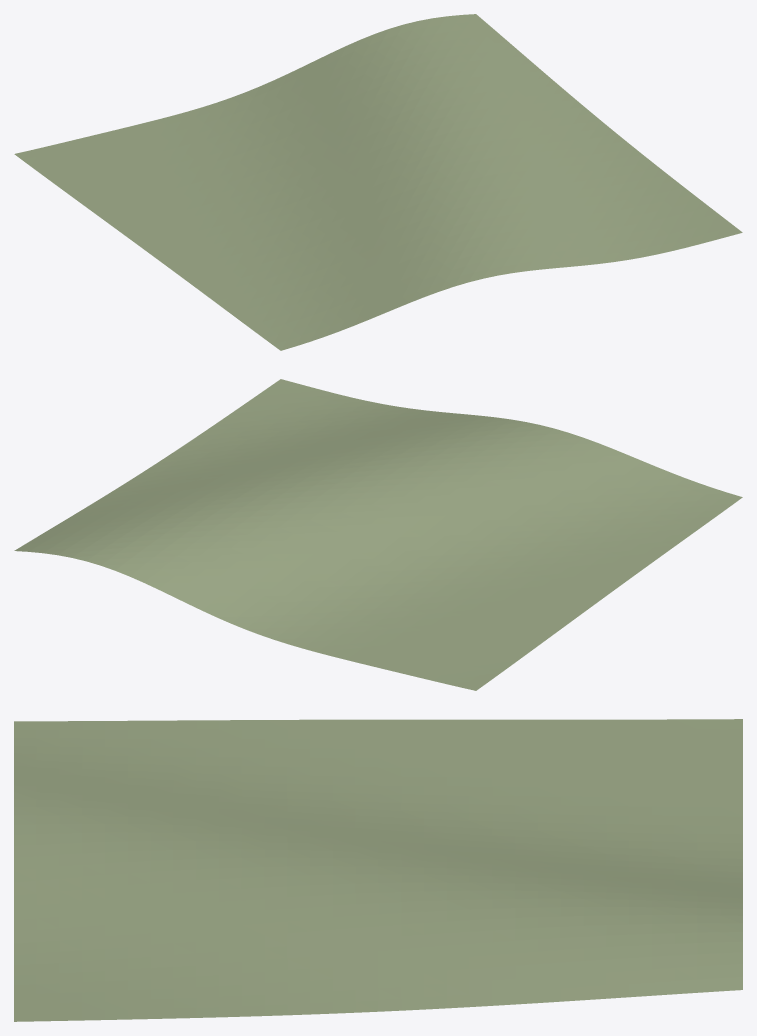
Rendered from desert-9-7.glb.
The picture shows the model from 3 angles, top to bottom: view 1: azimuth 30°, elevation 25°; view 2: azimuth 150°, elevation 25°; view 3: azimuth 270°, elevation 25°; orthographic projection. The views are drawn at different scales.
Parts seen in each view (by area): view 1: desert-9-7; view 2: desert-9-7; view 3: desert-9-7.
Boxes of the visible parts, x1,y1,x2,y2 form: desert-9-7: (14,14,742,350); desert-9-7: (14,379,742,690); desert-9-7: (14,719,742,1021).
Size of the model in its own units: 512 by 38.18 by 512.
